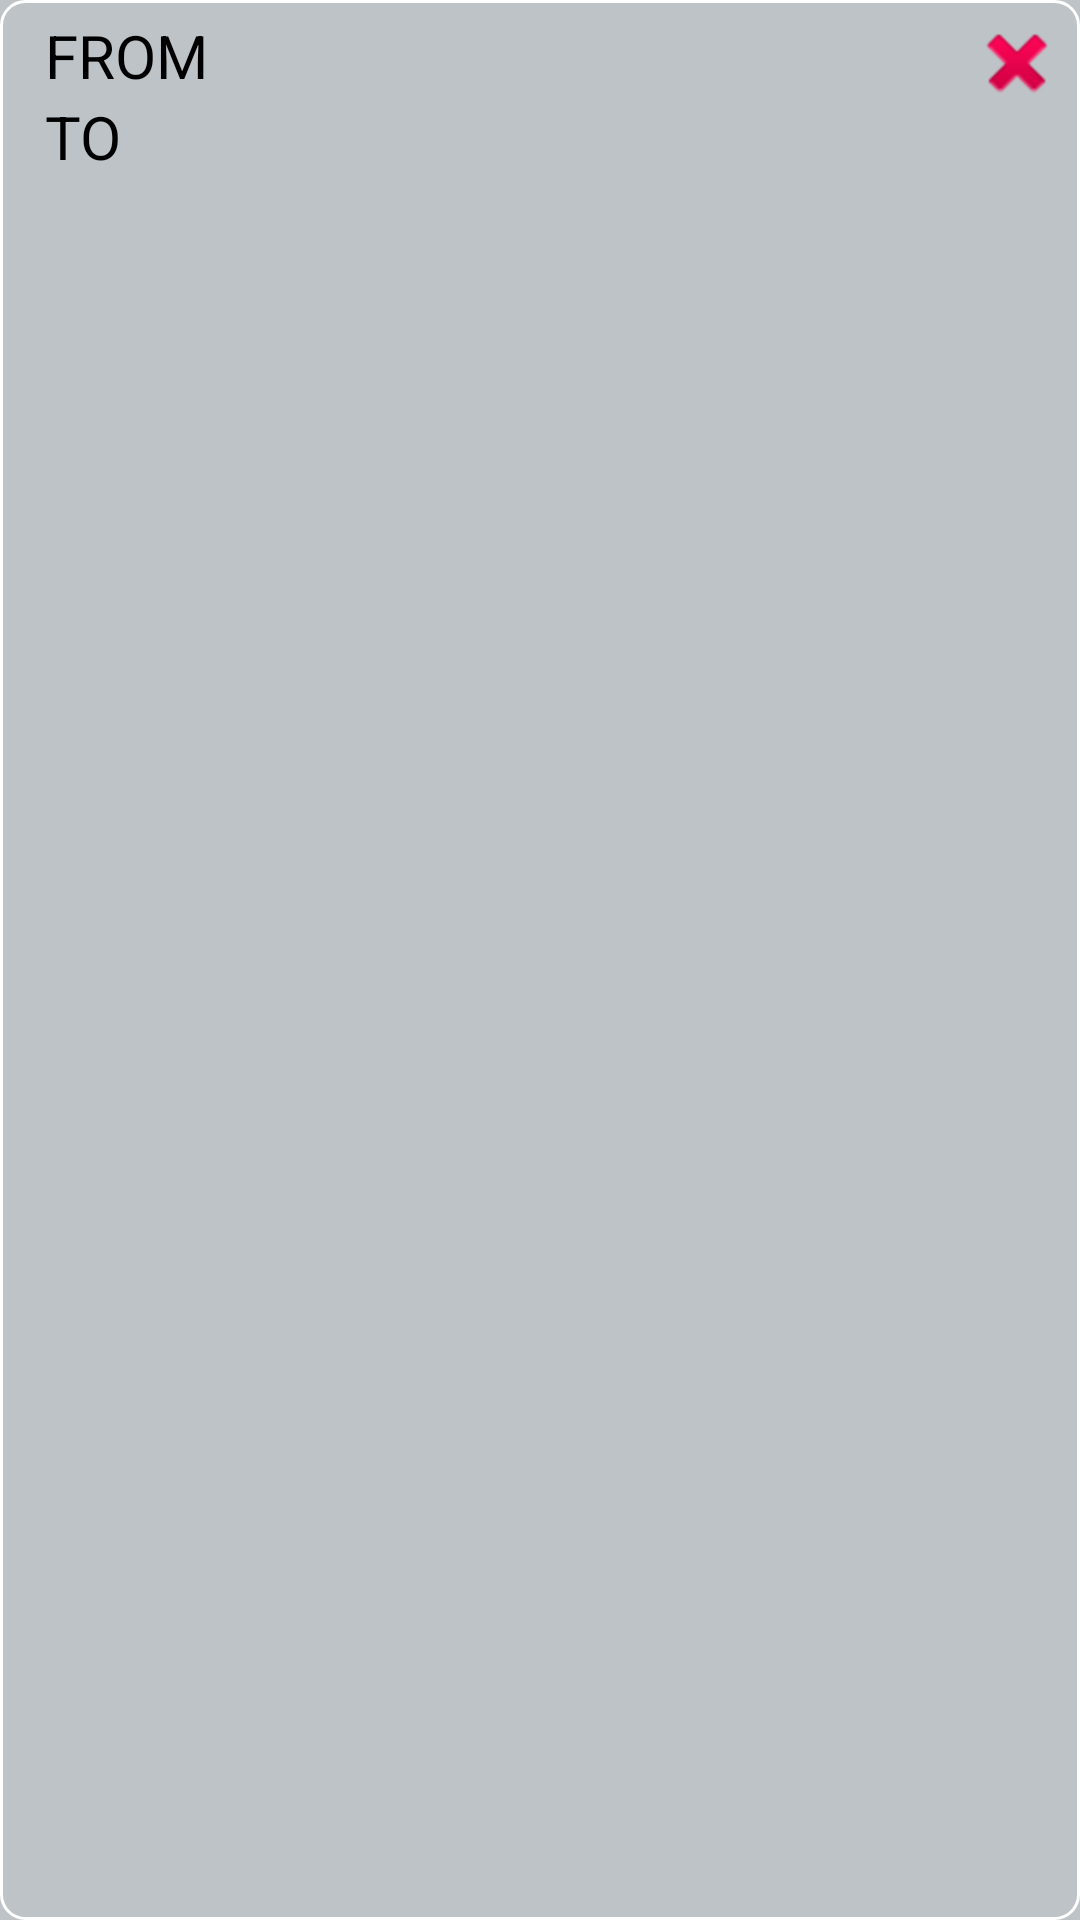

Screen size 1080px×1920px. Icon name, then its center in pixels as [x,y]:
delete: [1017,63]
